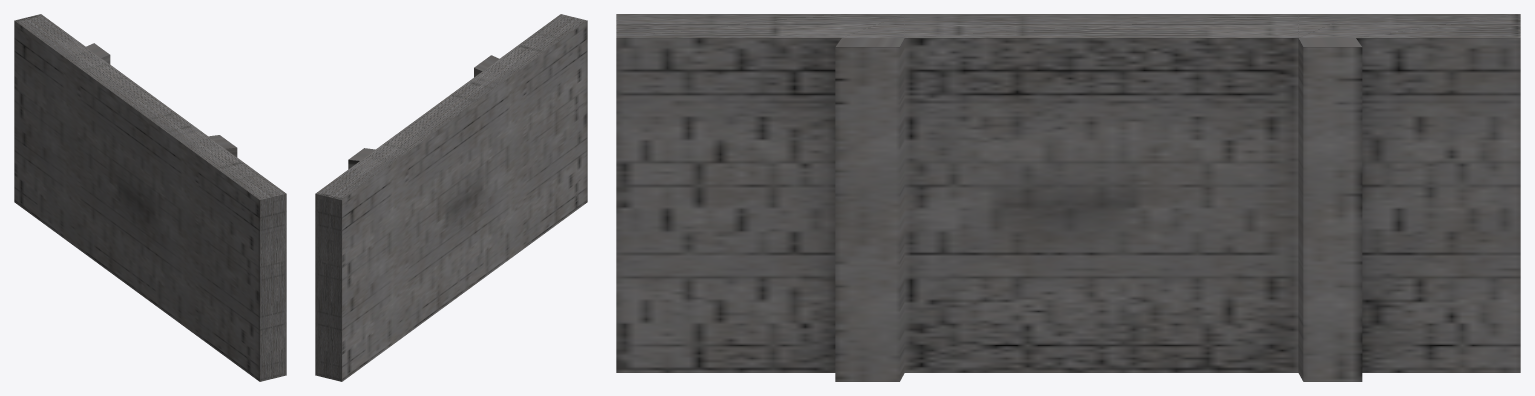
The model's file is ConcreeteWall.fbx.
The picture shows the model from 3 angles, left to right: view 1: azimuth 30°, elevation 25°; view 2: azimuth 150°, elevation 25°; view 3: azimuth 270°, elevation 25°; orthographic projection. The views are drawn at different scales.
Visible parts, largest first — view 1: ConcretteWall; view 2: ConcretteWall; view 3: ConcretteWall.
Part boxes in pixels (x1=…): ConcretteWall: x1=14, y1=14, x2=286, y2=381; ConcretteWall: x1=315, y1=14, x2=587, y2=381; ConcretteWall: x1=616, y1=14, x2=1520, y2=381.
Size of the model in its own units: 109 by 516 by 1264.
1 material, 1 textured.
